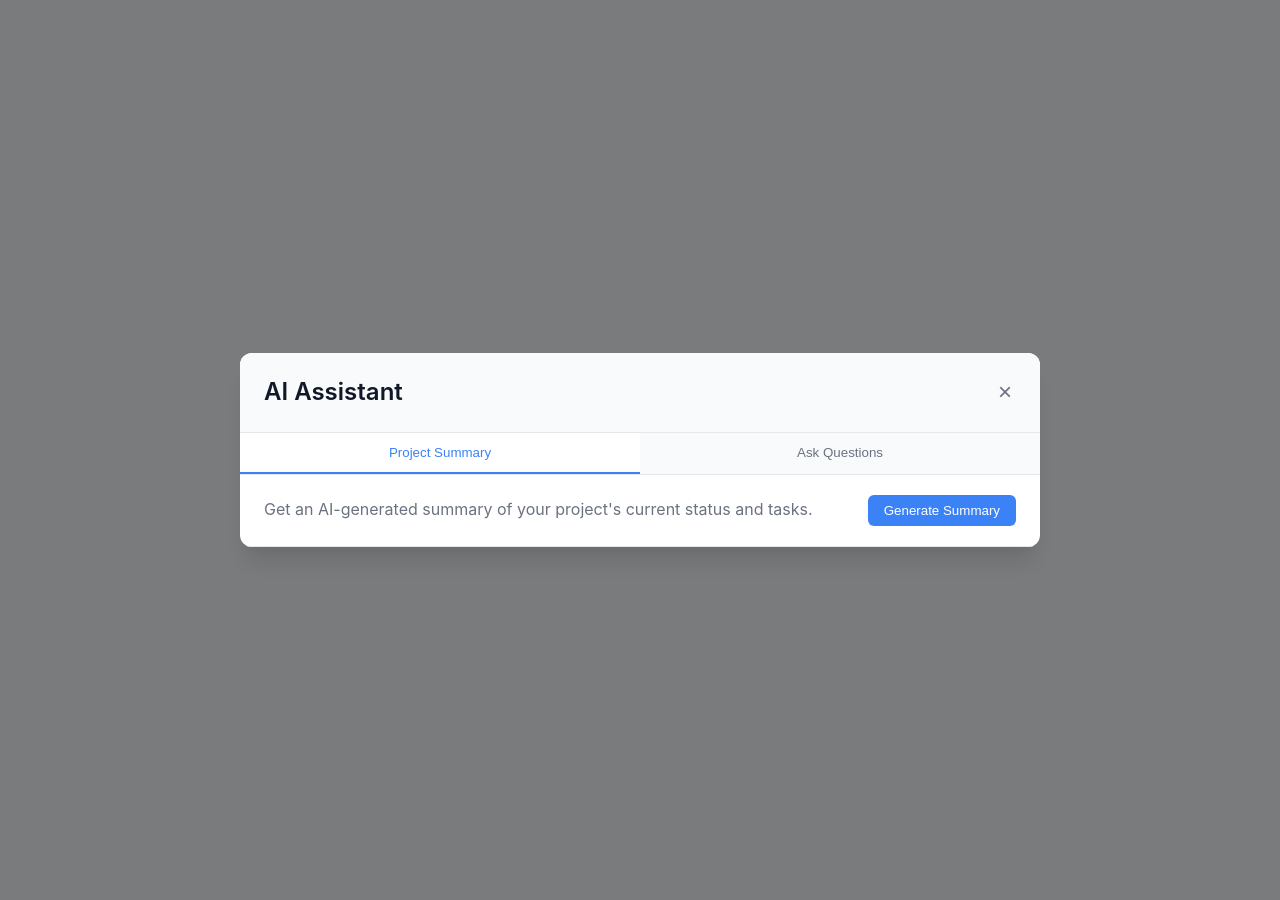
Test: AiAssistant Component › Project Summary Tab › shows cached summary indicator
Click the button "Generate Summary" at (942, 510), box [868,495,1016,526]
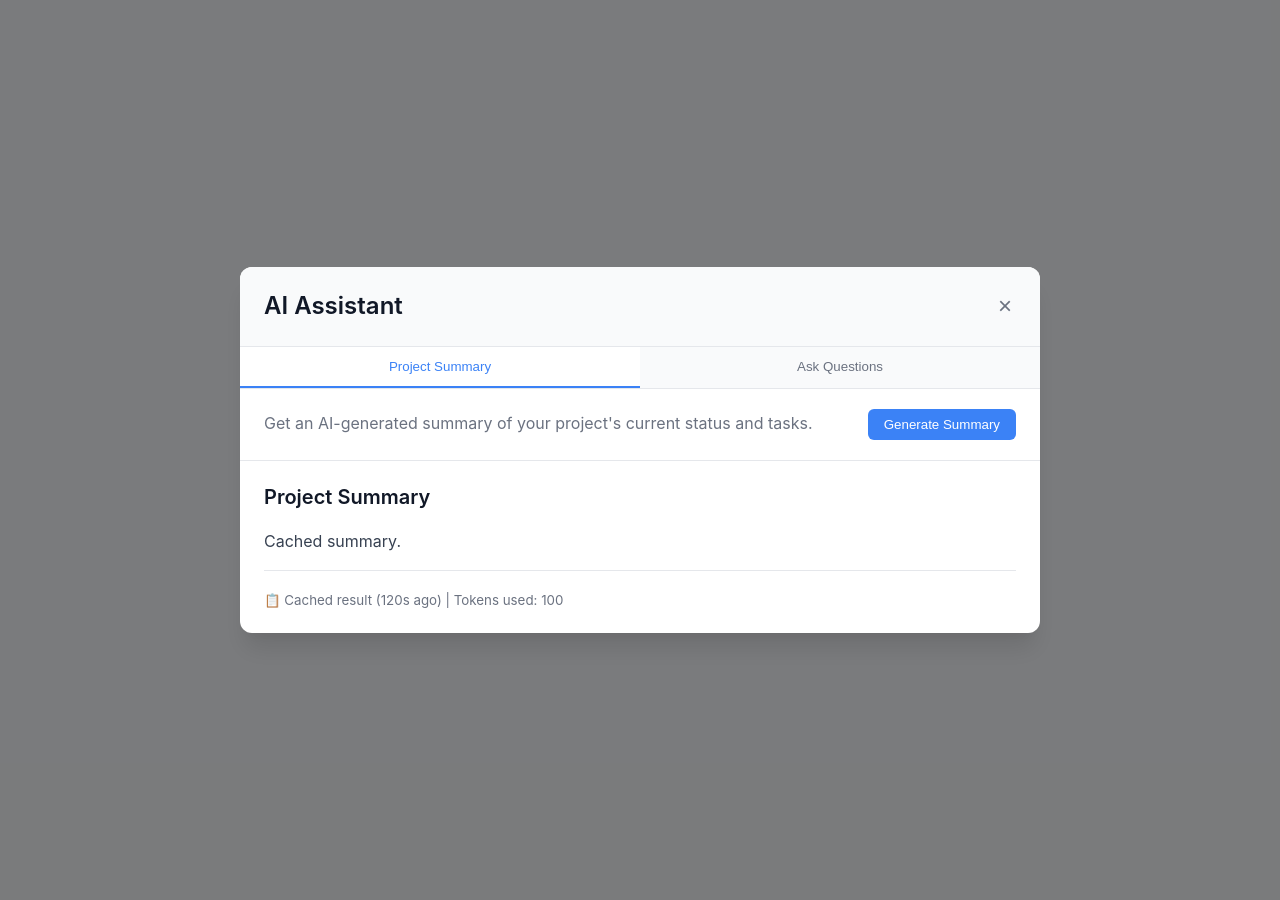
Expected: the text "📋 Cached result (120s ago) |" is shown, [264,592,454,608]
